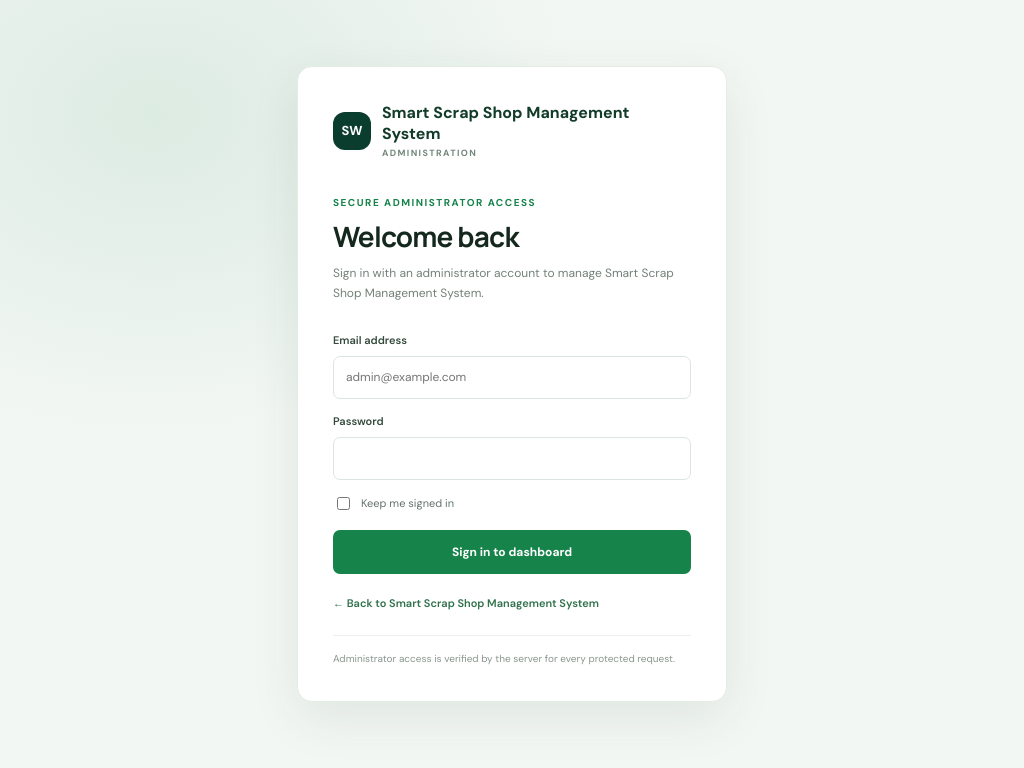
Scenario: AdminLogin › shows a server authentication error without navigating
The image size is (1024, 768).
In the field labelled "Email address": (512, 377) [333,356,691,399], type "person@example.com"
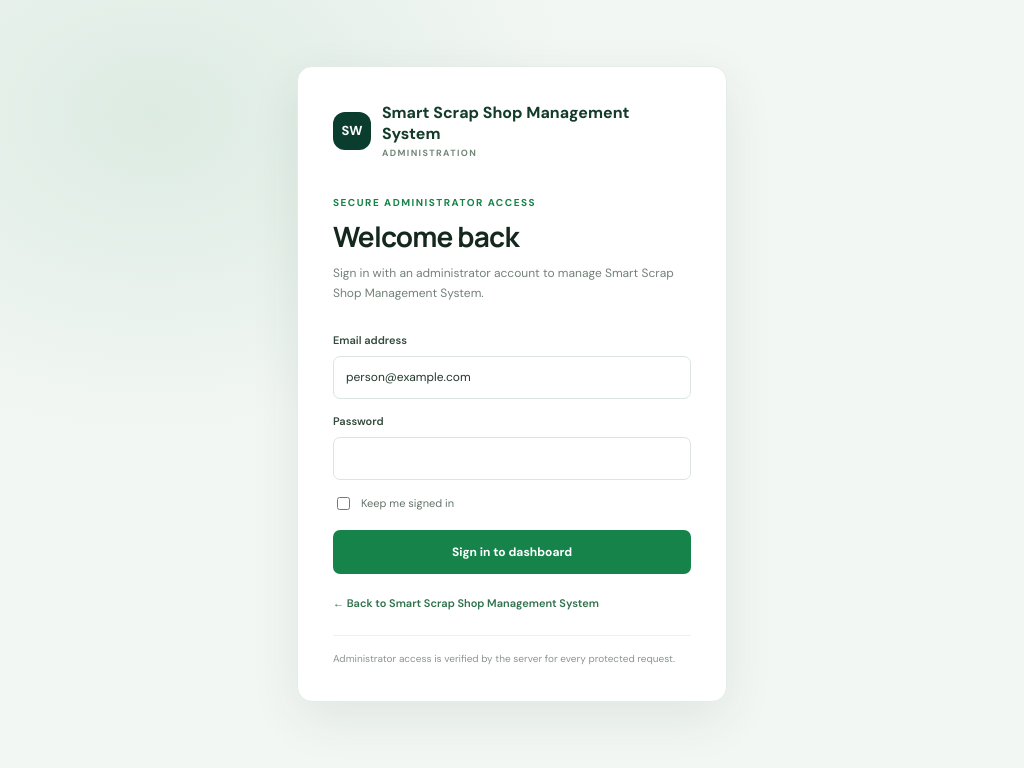
In the password field labelled "Password": (512, 458) [333,437,691,480], type "password"
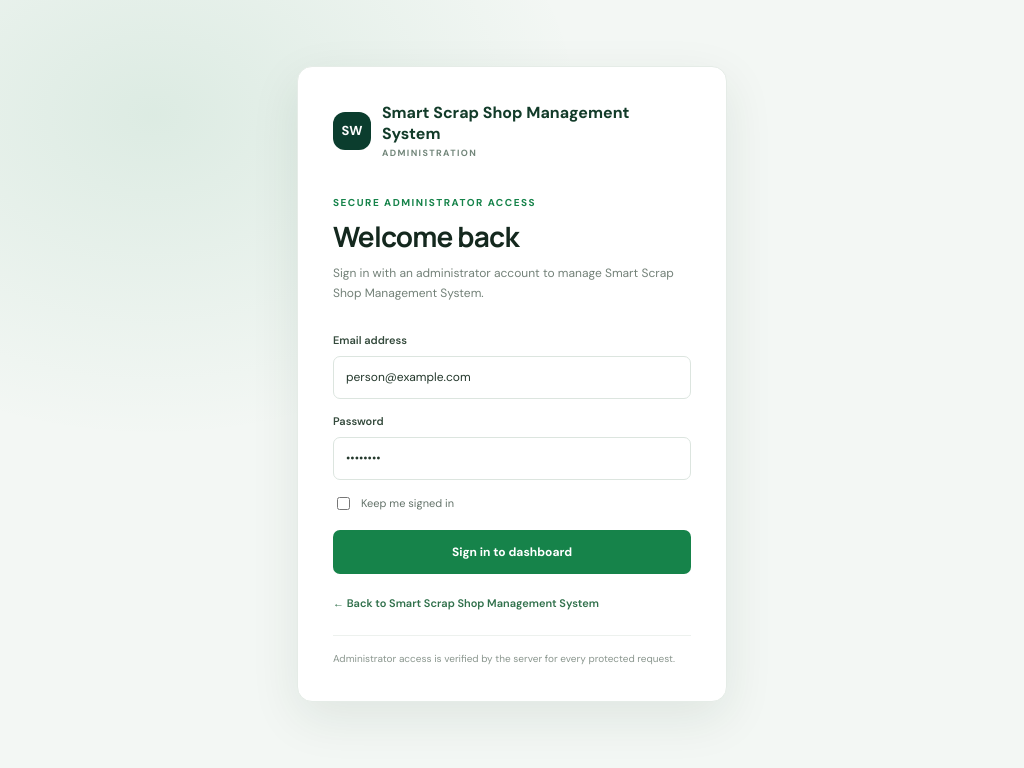
Click the button "Sign in to dashboard": (512, 552) [333,530,691,574]
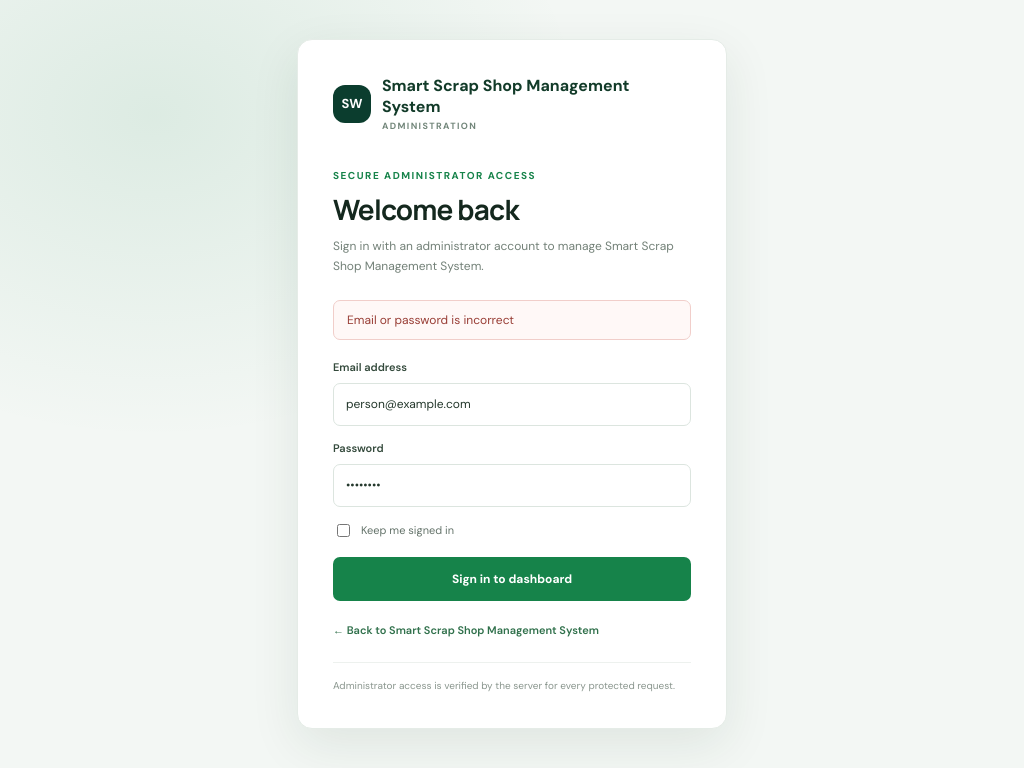
Now the message reads "Email or password is incorrect", box [347,312,514,328]
